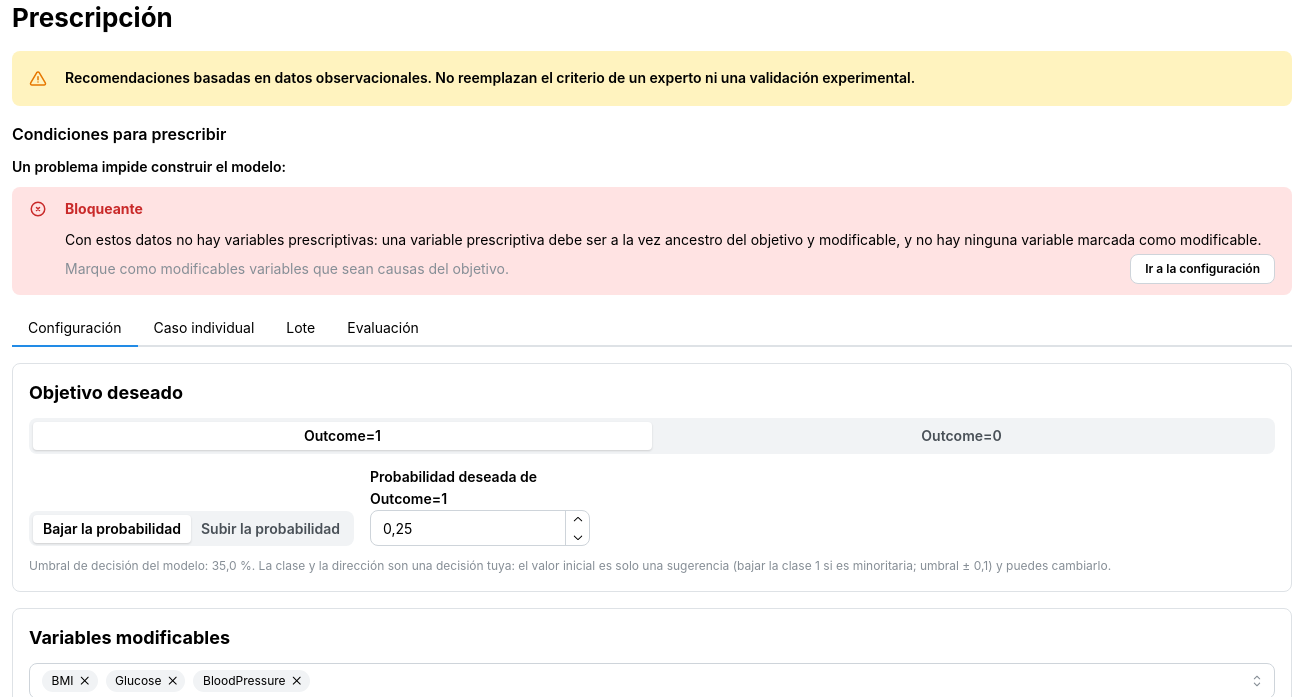
Test: Prescripción: pantalla › muestra siempre el aviso y los bloqueantes con su acción
The width and height of the screenshot is (1292, 697).
Expected: the message with test id "aviso-prescripcion" shows "Recomendaciones basadas en datos observacionales. No reemplazan el criterio de un experto ni una validación experimental.", [65,69,915,86]
Expected: the text "Con estos datos no hay variables prescriptivas" is shown, [65,231,1262,248]
Click the tab "Caso individual" at x=204, y=329, box [138,311,270,347]
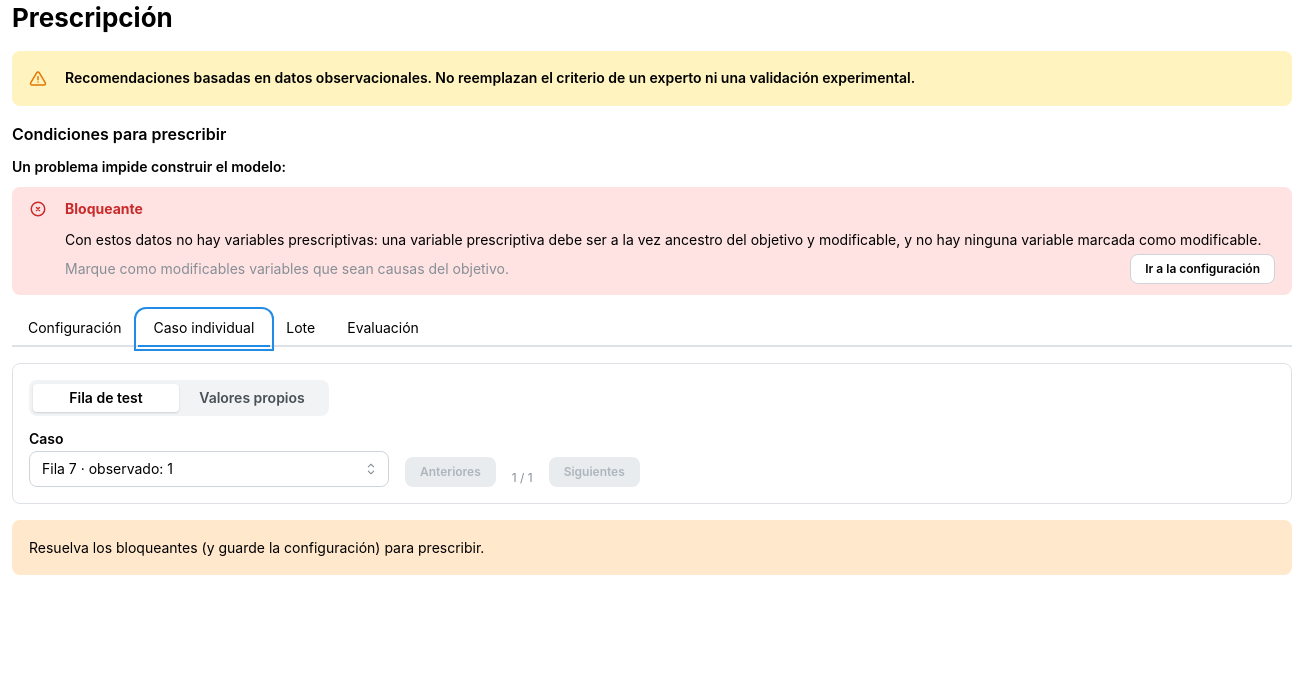
Click the button "Ir a la configuración" at x=1203, y=269, box [1130,254,1275,284]
(page scrolled)
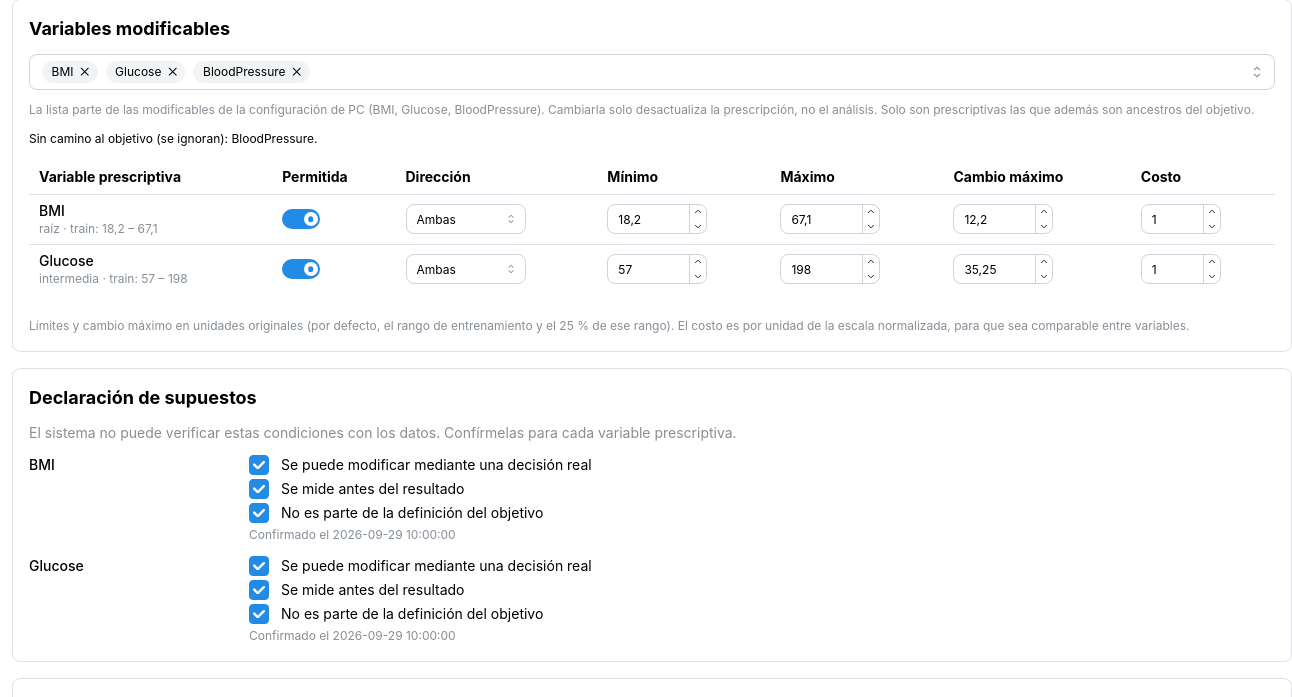
Result: the table with test id "tabla-acciones" is shown at [29,160,1275,294]
